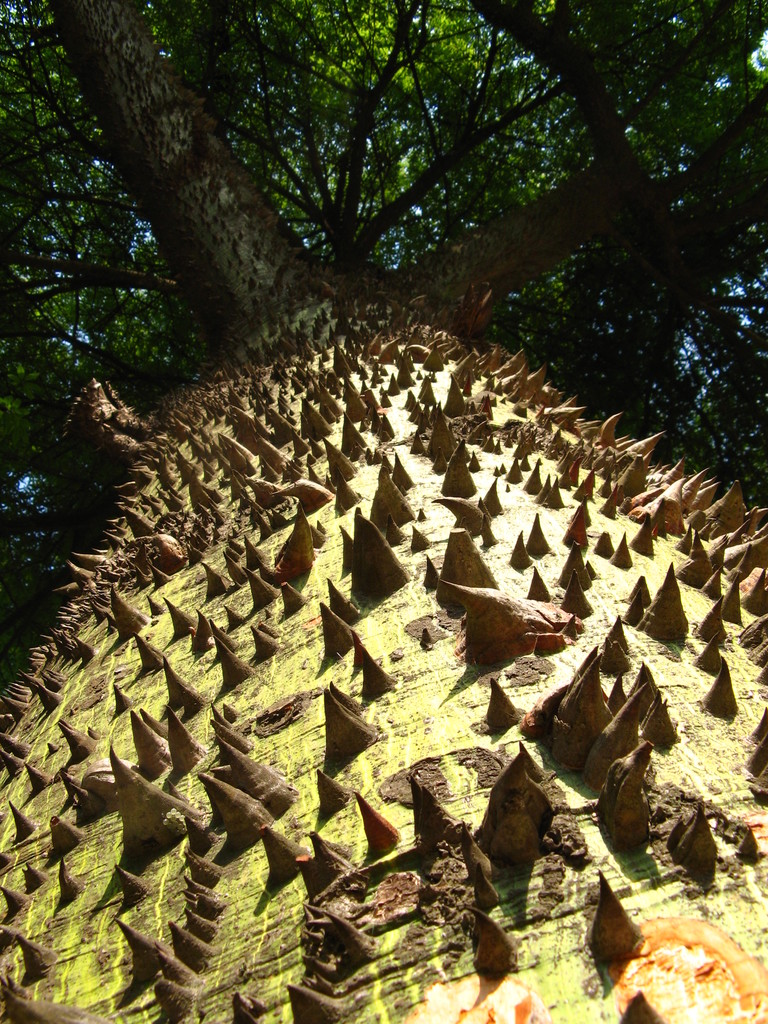Tree: (1, 0, 767, 1023)
